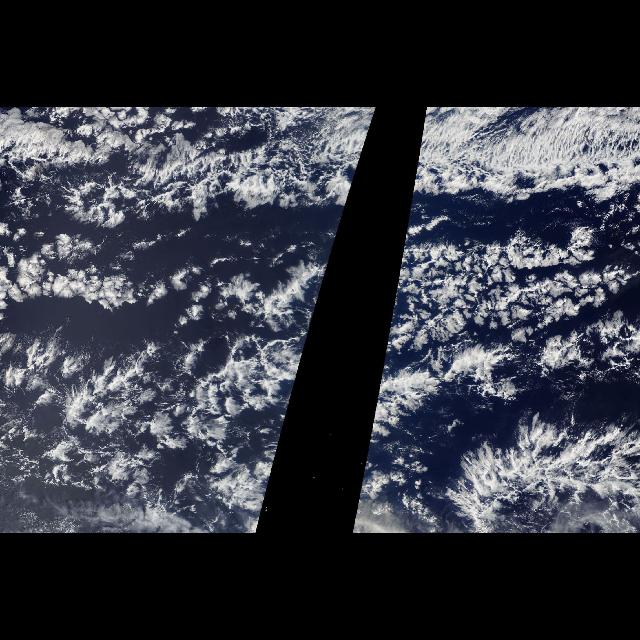Fish: (3, 137, 367, 486), (361, 155, 639, 532)
Flower: (3, 217, 330, 341), (397, 236, 639, 400)
Gravel: (4, 330, 210, 520)
